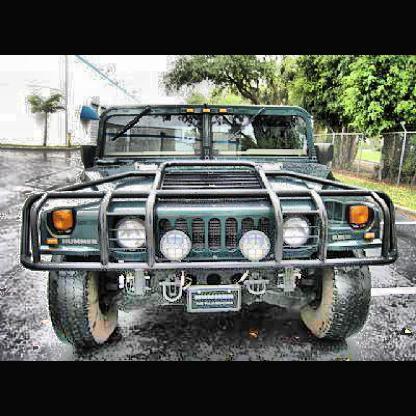AM General Hummer SUV 2000: (22, 105, 401, 349)
